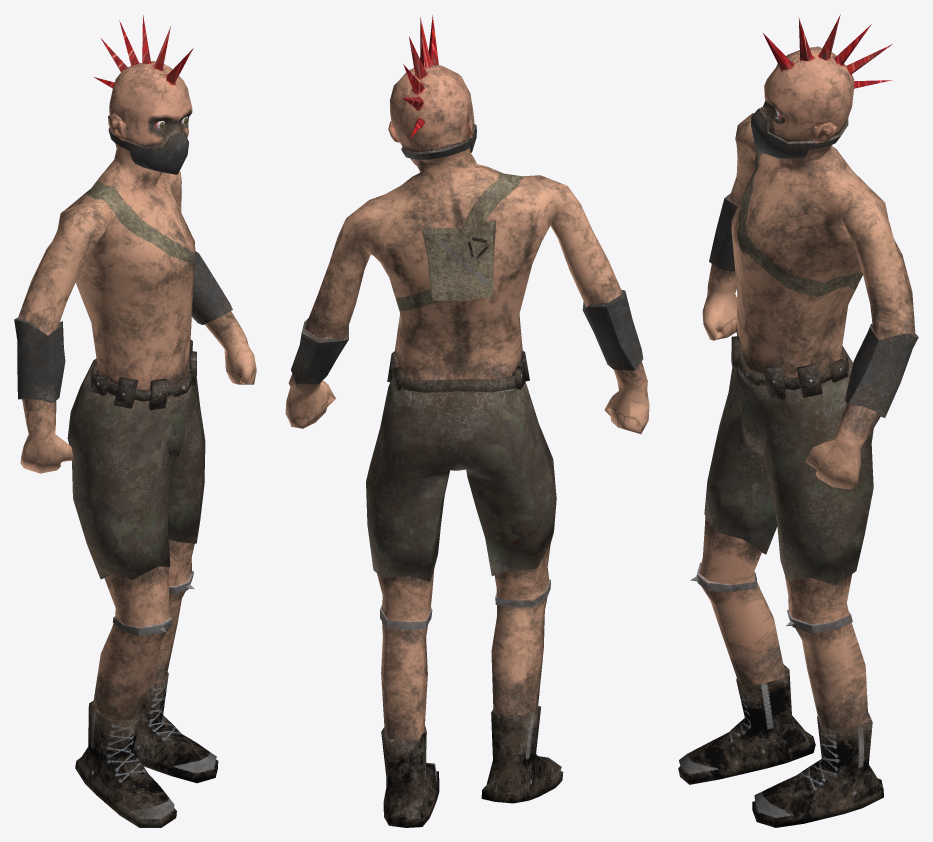
The model's file is Anim_disparar_pistola_npc2.0018.obj.
3 renders of one model, left to right at view 1: azimuth 30°, elevation 25°; view 2: azimuth 150°, elevation 25°; view 3: azimuth 270°, elevation 25°, orthographic. The views are drawn at different scales.
Visible parts, largest first — view 1: polySurface1; view 2: polySurface1; view 3: polySurface1.
Boxes of the visible parts, x1=… form: polySurface1: x1=14, y1=15, x2=256, y2=827; polySurface1: x1=285, y1=15, x2=649, y2=827; polySurface1: x1=678, y1=14, x2=918, y2=827.
Size of the model in its own units: 4.05 by 10.14 by 2.79.
